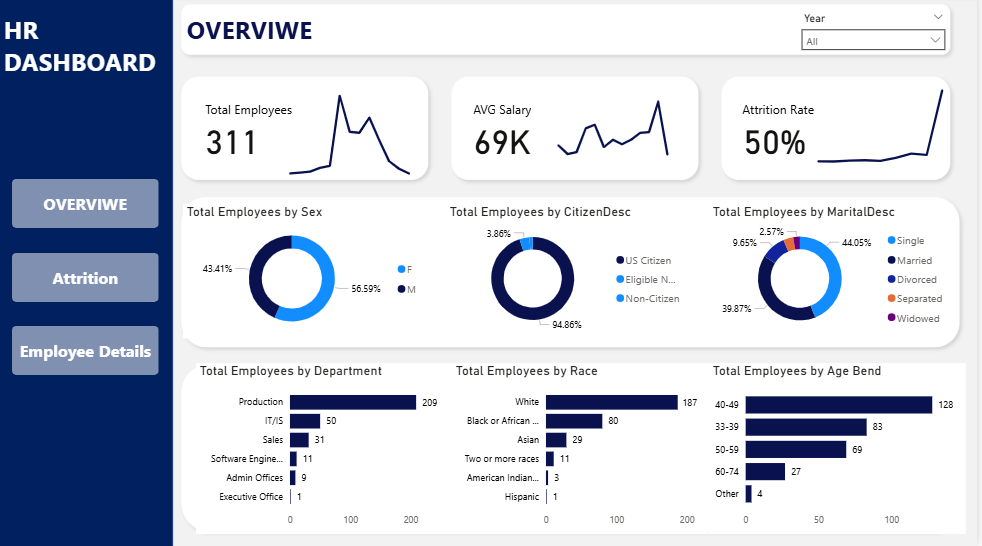

Layout of this report page (visuals, bound fields, positions):
{"tool":"powerbi","page":{"name":"OVERVIEW","canvas":[1280,720],"ordinal":0},"visuals":[{"type":"cardVisual","fields":{"Data":["_measure.Total Employees"]},"box":[256,112,144,128],"z":0},{"type":"lineChart","fields":{"Y":["_measure.Total Employees"],"Category":["Date Table.Year"]},"box":[352,96,224,144],"z":1000},{"type":"cardVisual","fields":{"Data":["_measure.AVG Salary"]},"box":[608,112,176,128],"z":2000},{"type":"lineChart","fields":{"Category":["Date Table.Year"],"Y":["_measure.AVG Salary"]},"box":[704,96,208,144],"z":3000},{"type":"lineChart","fields":{"Category":["Date Table.Year"],"Y":["_measure.Attrition Rate"]},"box":[1056,96,192,128],"z":4000},{"type":"cardVisual","fields":{"Data":["_measure.Attrition Rate"]},"box":[960,112,144,128],"z":5000},{"type":"donutChart","fields":{"Category":["HRDataset_v14.Sex"],"Y":["_measure.Total Employees"]},"box":[240,272,320,176],"z":6000},{"type":"donutChart","fields":{"Category":["HRDataset_v14.CitizenDesc"],"Y":["_measure.Total Employees"]},"box":[584,272,320,176],"z":7000},{"type":"donutChart","fields":{"Category":["HRDataset_v14.MaritalDesc"],"Y":["_measure.Total Employees"]},"box":[928,272,320,176],"z":8000},{"type":"clusteredBarChart","fields":{"Y":["_measure.Total Employees"],"Category":["HRDataset_v14.Department"]},"box":[256,480,336,224],"z":9000},{"type":"clusteredBarChart","title":"Total Employees by Race","fields":{"Y":["_measure.Total Employees"],"Category":["HRDataset_v14.RaceDesc"]},"box":[592,480,336,224],"z":10000},{"type":"clusteredBarChart","fields":{"Y":["_measure.Total Employees"],"Category":["HRDataset_v14.Age Bend"]},"box":[928,480,336,224],"z":11000},{"type":"slicer","fields":{"Values":["Date Table.Year"]},"box":[1040,16,208,64],"z":12000},{"type":"textbox","box":[240,16,336,64],"z":13000},{"type":"textbox","box":[0,16,224,96],"z":15000},{"type":"actionButton","box":[16,240,192,64],"z":15001},{"type":"actionButton","box":[16,336,192,64],"z":15002},{"type":"actionButton","box":[16,432,192,64],"z":15003}]}

Visuals, with their boxes in screenshot pixels (x1, y1, x2, y2), scaled from the page's 1280x720 canvas onto the 982x546 screenshot:
cardVisual - _measure.Total Employees: bbox(196, 85, 307, 182)
lineChart - _measure.Total Employees x Date Table.Year: bbox(270, 73, 442, 182)
cardVisual - _measure.AVG Salary: bbox(466, 85, 601, 182)
lineChart - Date Table.Year x _measure.AVG Salary: bbox(540, 73, 700, 182)
lineChart - Date Table.Year x _measure.Attrition Rate: bbox(810, 73, 957, 170)
cardVisual - _measure.Attrition Rate: bbox(736, 85, 847, 182)
donutChart - HRDataset_v14.Sex x _measure.Total Employees: bbox(184, 206, 430, 340)
donutChart - HRDataset_v14.CitizenDesc x _measure.Total Employees: bbox(448, 206, 694, 340)
donutChart - HRDataset_v14.MaritalDesc x _measure.Total Employees: bbox(712, 206, 957, 340)
clusteredBarChart - _measure.Total Employees x HRDataset_v14.Department: bbox(196, 364, 454, 534)
"Total Employees by Race" clusteredBarChart: bbox(454, 364, 712, 534)
clusteredBarChart - _measure.Total Employees x HRDataset_v14.Age Bend: bbox(712, 364, 970, 534)
slicer - Date Table.Year: bbox(798, 12, 957, 61)
textbox: bbox(184, 12, 442, 61)
textbox: bbox(0, 12, 172, 85)
actionButton: bbox(12, 182, 160, 231)
actionButton: bbox(12, 255, 160, 303)
actionButton: bbox(12, 328, 160, 376)
